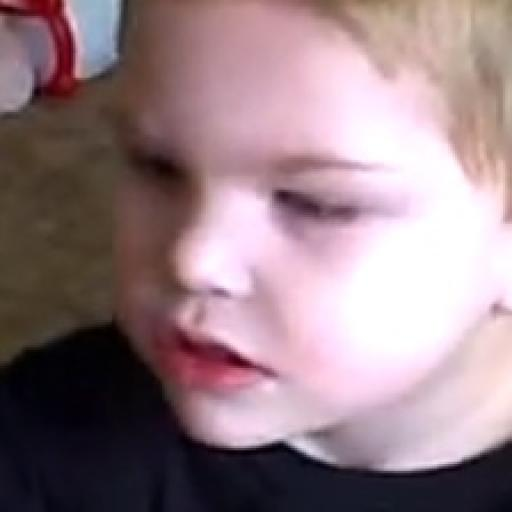Autism: (102, 17, 512, 512)
